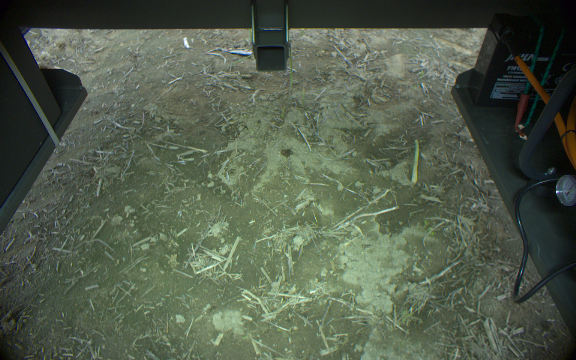aspa: (409, 138, 422, 186)
